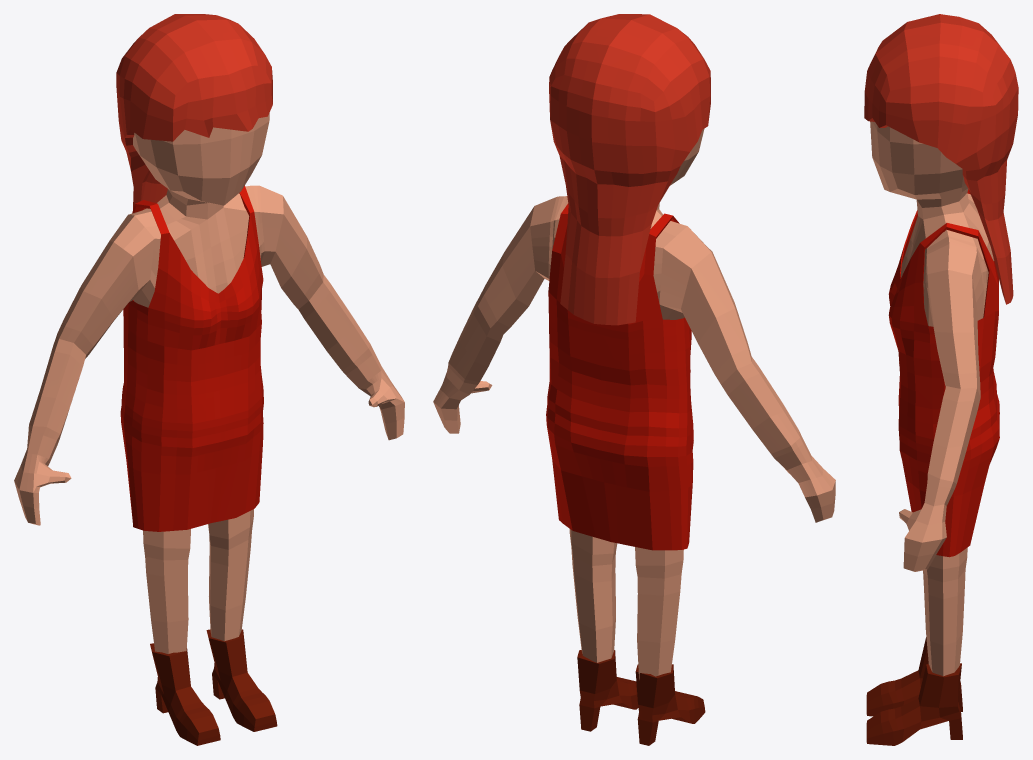
Rendered from Woman Red Dress Brown Hair.fbx.
The picture shows the model from 3 angles, left to right: view 1: azimuth 30°, elevation 25°; view 2: azimuth 150°, elevation 25°; view 3: azimuth 270°, elevation 25°; orthographic projection. The views are drawn at different scales.
Visible parts, largest first — view 1: Cube.001; view 2: Cube.001; view 3: Cube.001.
Boxes of the visible parts, left/top/right/bottom form: Cube.001: left=14, top=14, right=404, bottom=745; Cube.001: left=433, top=14, right=835, bottom=745; Cube.001: left=864, top=14, right=1018, bottom=745.
Bounding box in the file's own units: 103 × 178 × 35.56.
